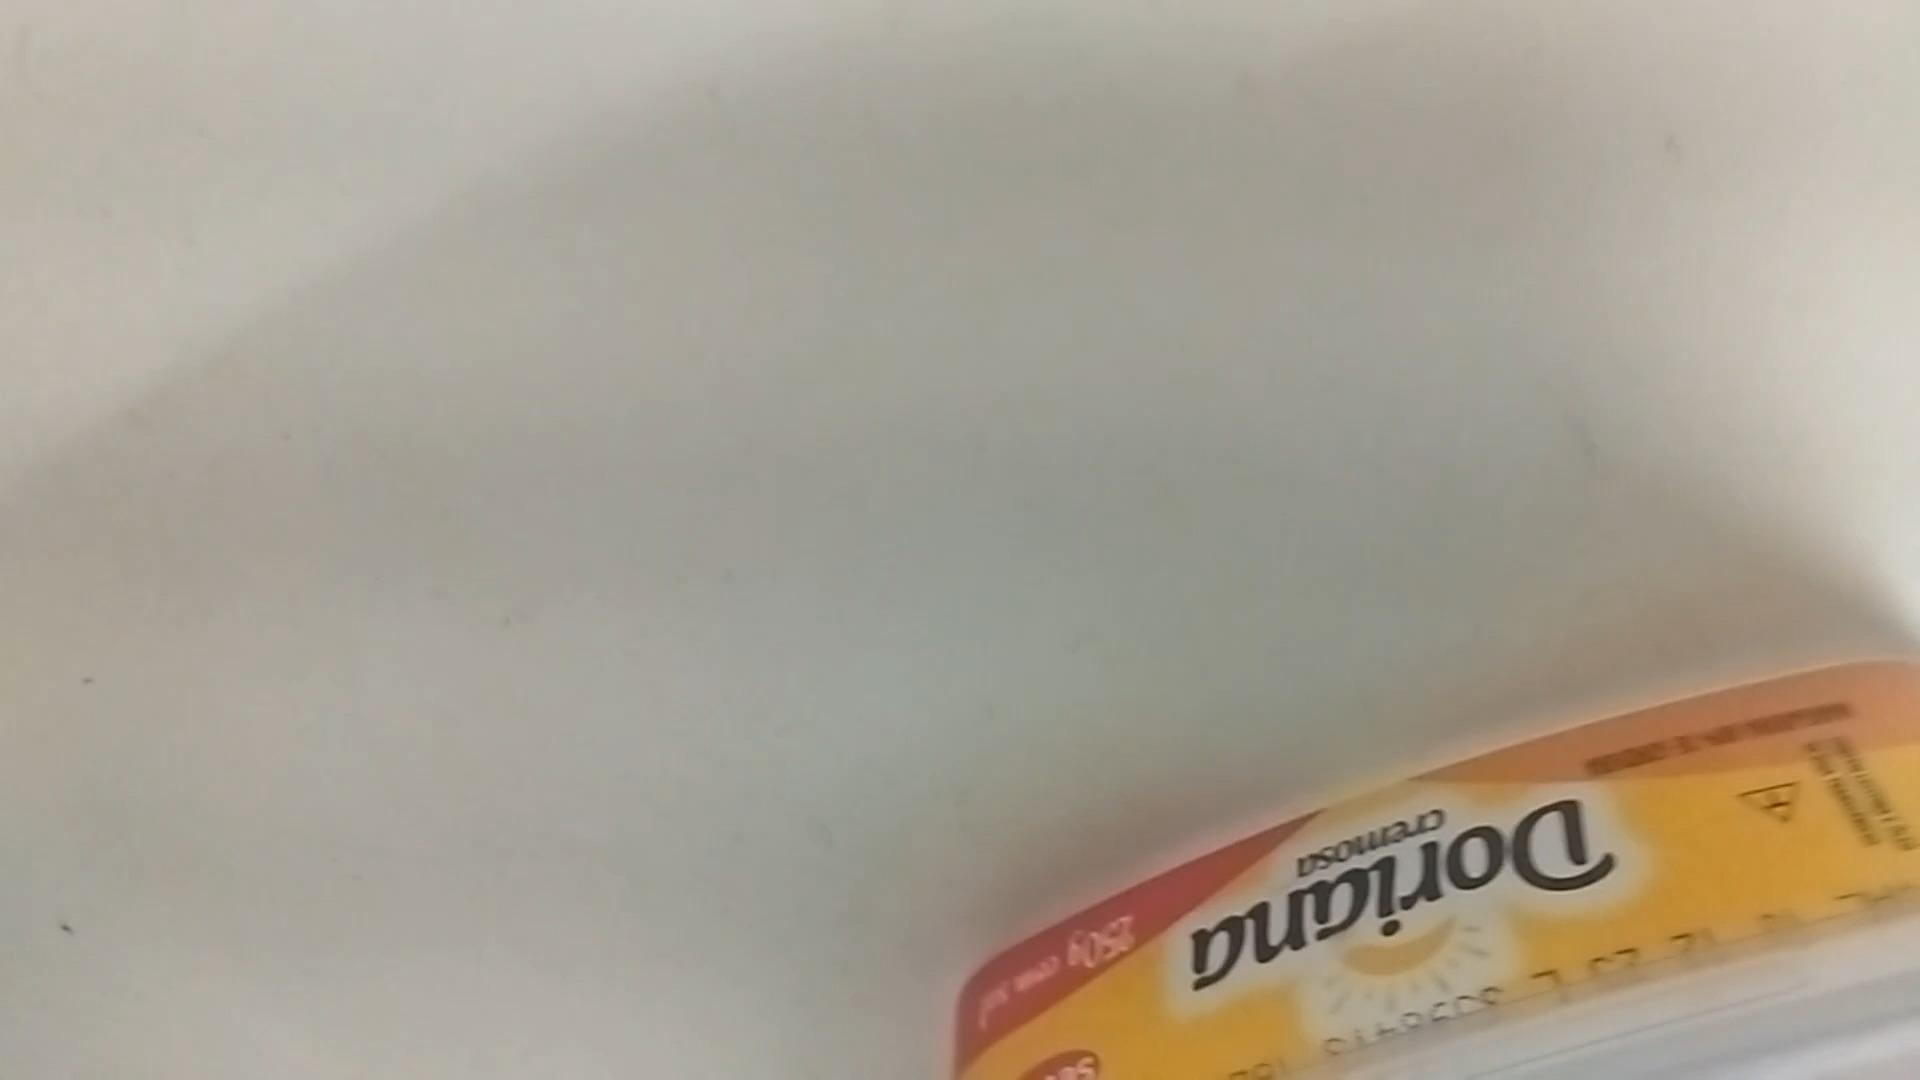butter: (940, 667, 1920, 1080)
